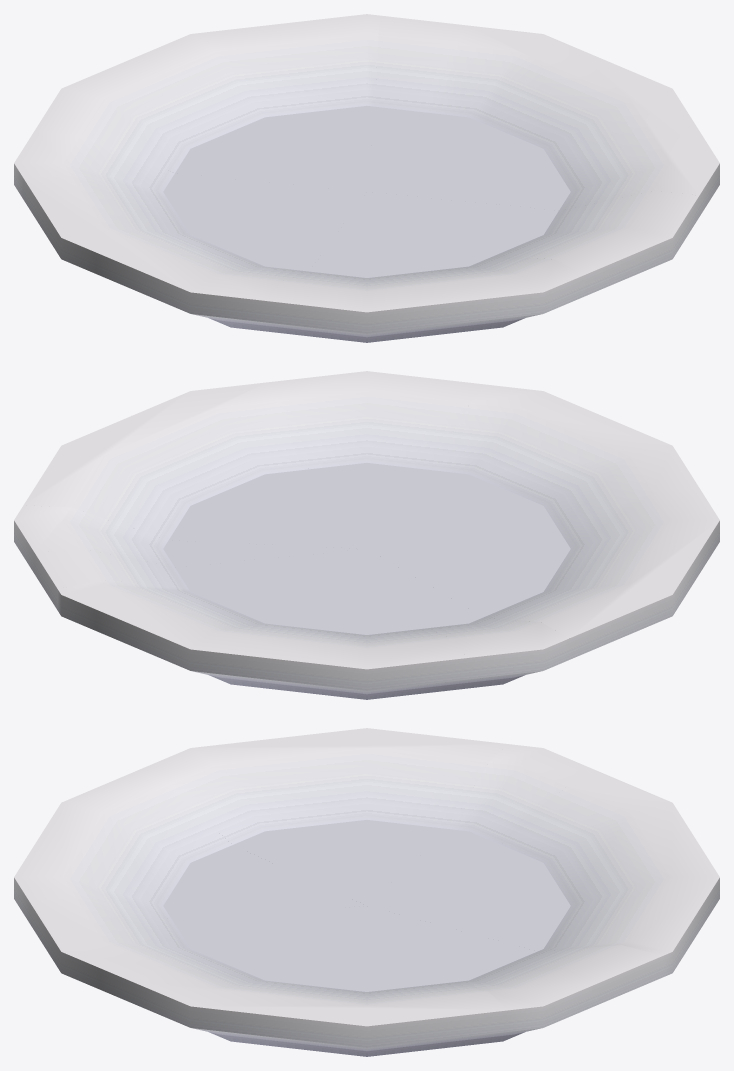
Rendered from plate-broken.glb.
The picture shows the model from 3 angles, top to bottom: view 1: azimuth 30°, elevation 25°; view 2: azimuth 150°, elevation 25°; view 3: azimuth 270°, elevation 25°; orthographic projection.
Visible parts, largest first — view 1: piece (×8); view 2: piece (×8); view 3: piece (×8).
Part boxes in pixels (bbox=[...]): piece (×8): bbox=[14, 14, 719, 342]; piece (×8): bbox=[14, 371, 719, 699]; piece (×8): bbox=[14, 728, 719, 1056].
Size of the model in its own units: 0.8918 by 0.09 by 0.8918.
Materials: 1 (1 with a texture image).
